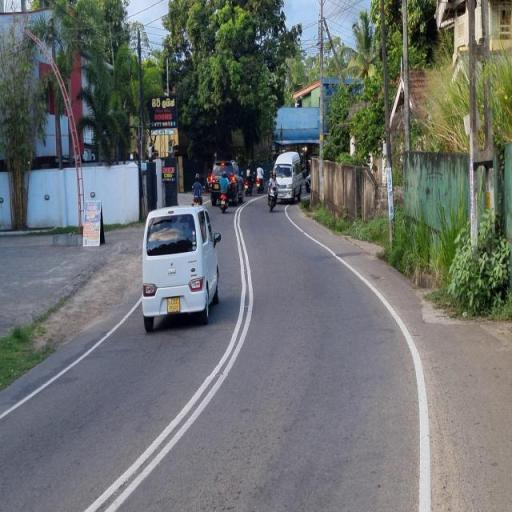double_white_line: (81, 197, 250, 512)
